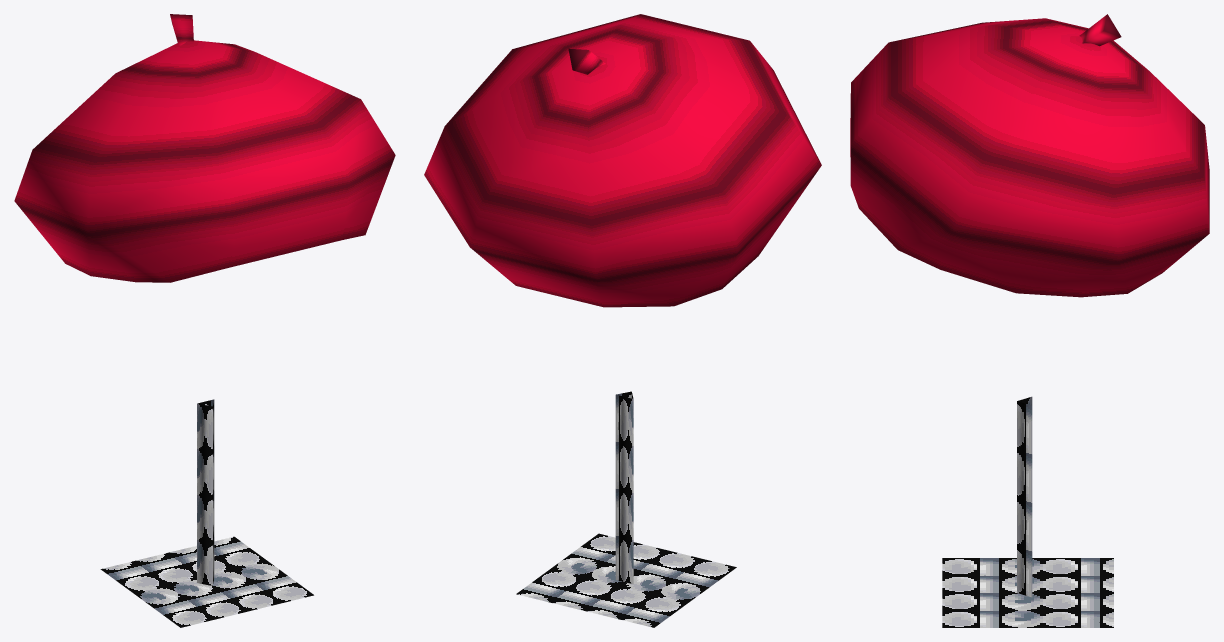
The model's file is 2932head082_c.gltf.
The picture shows the model from 3 angles, left to right: view 1: azimuth 30°, elevation 25°; view 2: azimuth 150°, elevation 25°; view 3: azimuth 270°, elevation 25°; orthographic projection. The views are drawn at different scales.
Visible parts, largest first — view 1: 2932head082_c; view 2: 2932head082_c; view 3: 2932head082_c.
Part boxes in pixels (x1=…): 2932head082_c: x1=14, y1=14, x2=395, y2=627; 2932head082_c: x1=424, y1=14, x2=821, y2=627; 2932head082_c: x1=850, y1=14, x2=1209, y2=627.
Size of the model in its own units: 1.07 by 1.79 by 1.
Materials: 2 (2 with a texture image).
